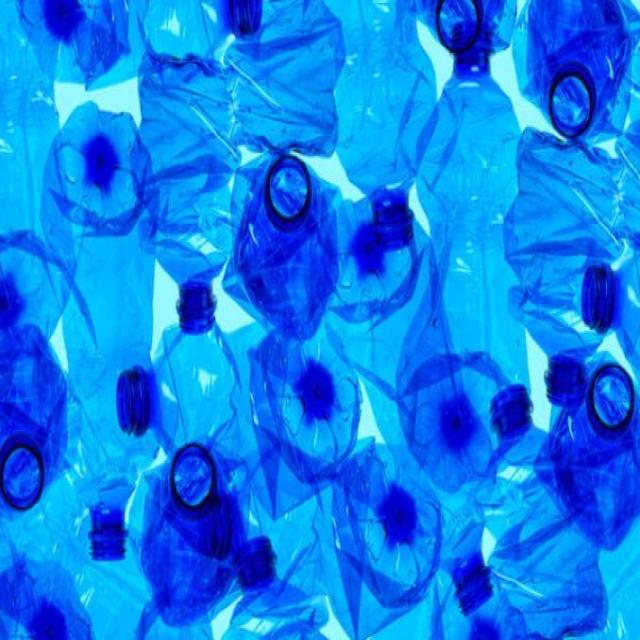general: (112, 277, 262, 599)
